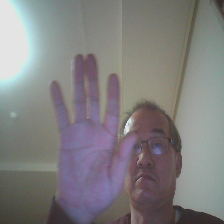hand: (45, 49, 138, 215)
